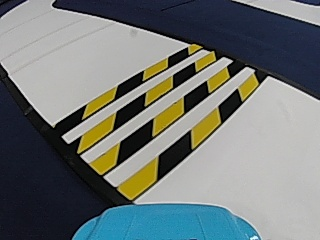bump: (60, 54, 241, 172)
